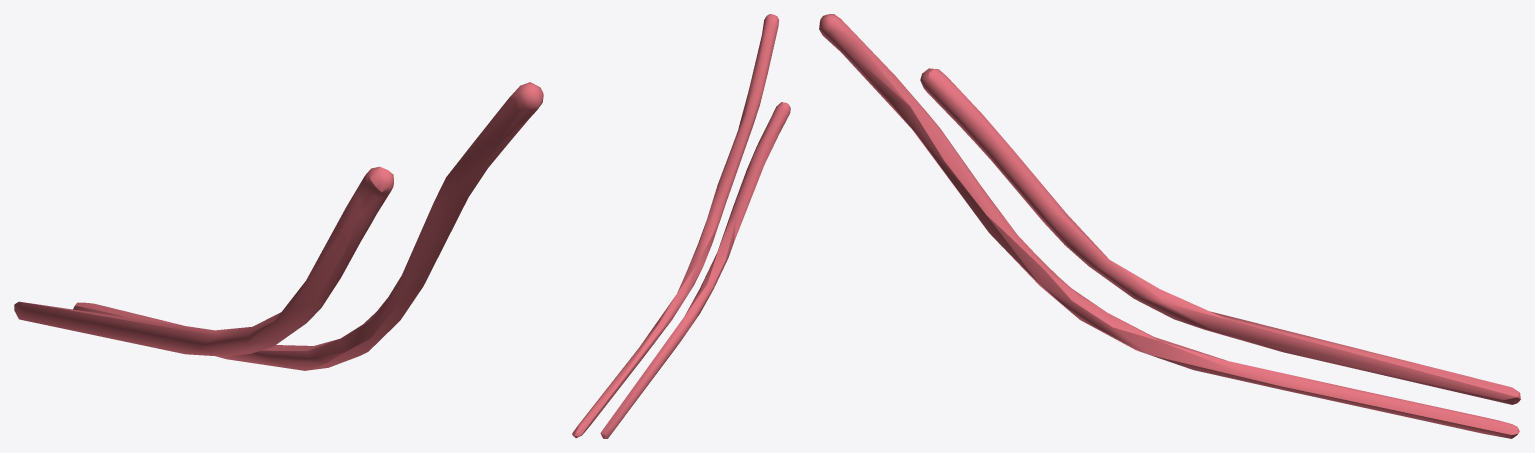
The model's file is fma14832_fj3588.glb.
The picture shows the model from 3 angles, left to right: view 1: azimuth 30°, elevation 25°; view 2: azimuth 150°, elevation 25°; view 3: azimuth 270°, elevation 25°; orthographic projection. The views are drawn at different scales.
Visible parts, largest first — view 1: FMA14832_FJ3588; view 2: FMA14832_FJ3588; view 3: FMA14832_FJ3588.
Boxes of the visible parts, left/top/right/bottom form: FMA14832_FJ3588: left=14, top=82, right=543, bottom=370; FMA14832_FJ3588: left=572, top=14, right=790, bottom=438; FMA14832_FJ3588: left=819, top=14, right=1520, bottom=438.
Size of the model in its own units: 0.00605 by 0.0273 by 0.04.
